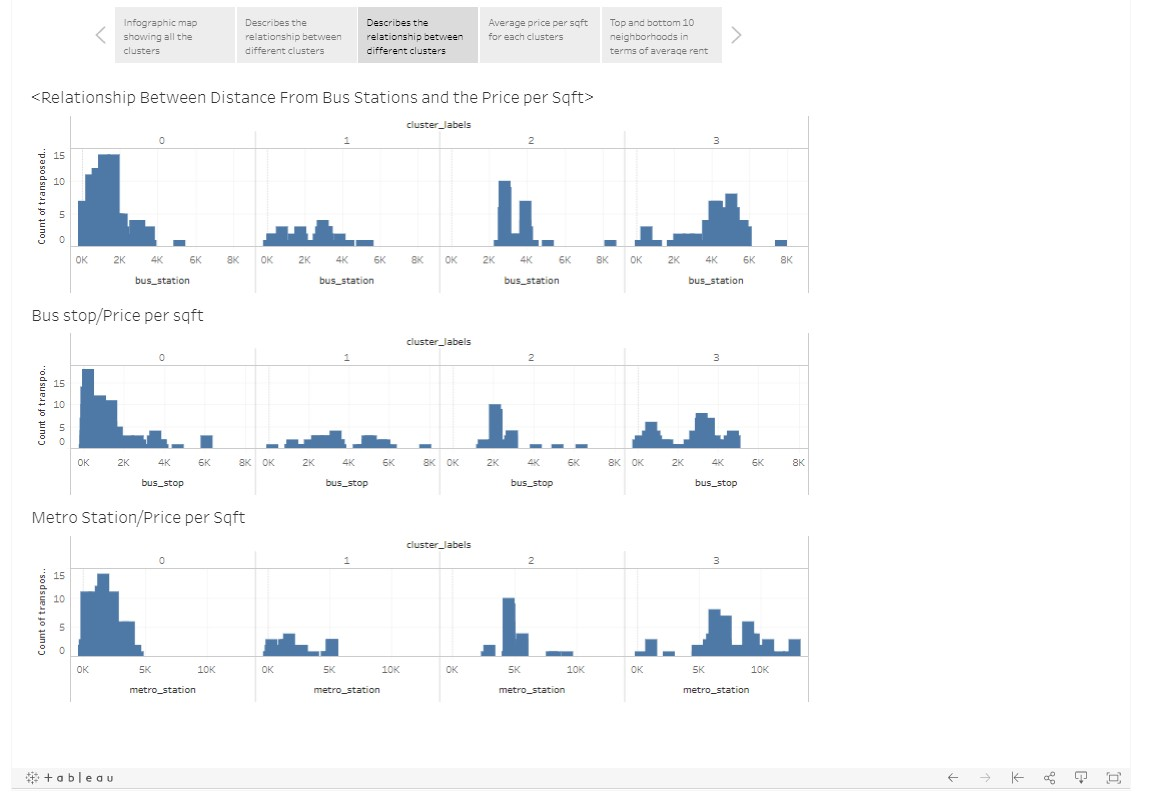

The dashboard page shown, as its layout file describes it:
{"tool":"tableau","page":{"name":"bus/metro station relationship","canvas":[1000,800],"ordinal":1},"visuals":[{"type":"worksheet","box":[0,0,1000,800]},{"type":"worksheet","title":"Bus station/Price per sqft","mark":"Bar","rows":["price_per_sqft"],"cols":["cluster_labels","bus_station"],"box":[8,8,984,272]},{"type":"worksheet","title":"Bus stop/Price per sqft","mark":"Bar","rows":["price_per_sqft"],"cols":["cluster_labels","bus_stop"],"box":[8,280,984,253]},{"type":"worksheet","title":"Metro Station/Price per Sqft","mark":"Bar","rows":["price_per_sqft"],"cols":["cluster_labels","metro_station"],"box":[8,533,984,259]}]}

Visuals, with their boxes on the page's 1000x800 design canvas (x1, y1, x2, y2). These are canvas units, not pixel positions in the 1168x802 screenshot, which may show the page scaled, cropped or inside an application window:
worksheet: 0:0:1000:800
"Bus station/Price per sqft" worksheet (Bar marks): 8:8:992:280
"Bus stop/Price per sqft" worksheet (Bar marks): 8:280:992:533
"Metro Station/Price per Sqft" worksheet (Bar marks): 8:533:992:792
